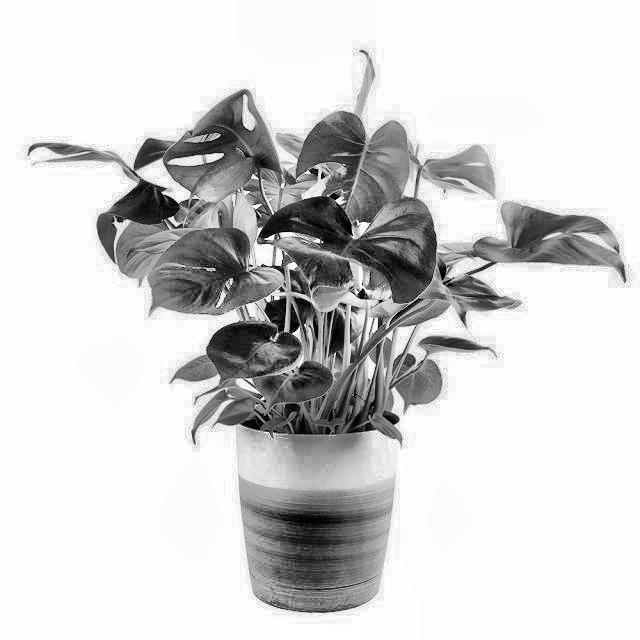plants: (22, 80, 637, 620)
